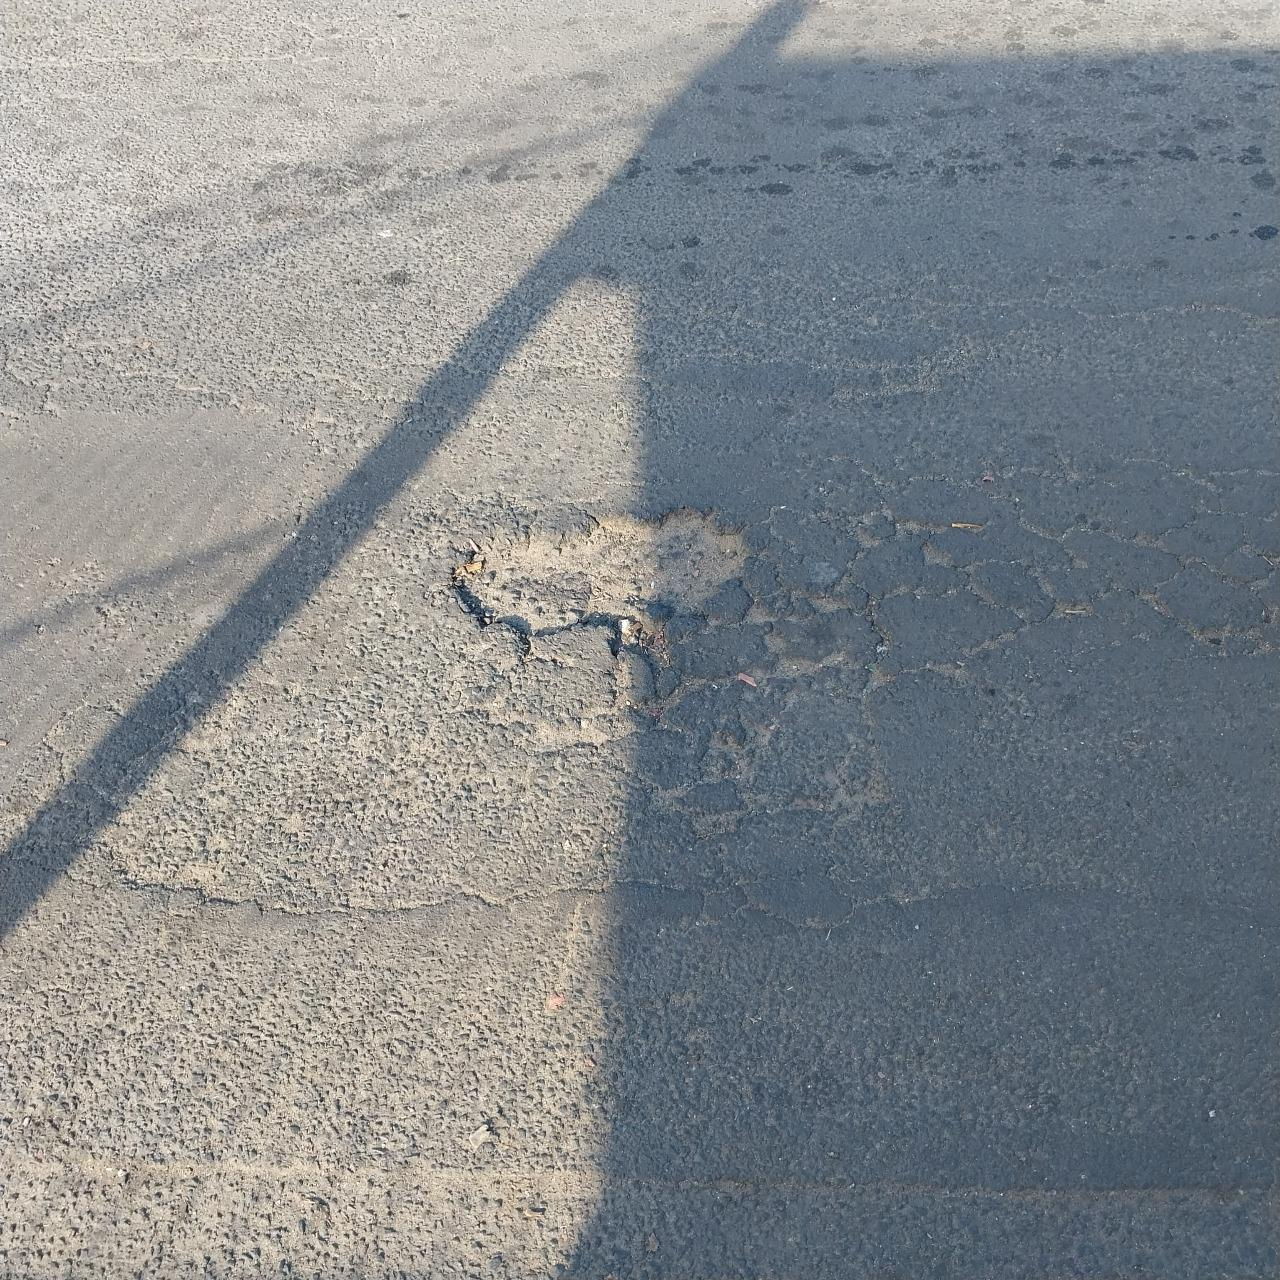Alligator: (448, 448, 832, 832), (448, 448, 832, 832)
Pothole: (448, 448, 832, 832)
